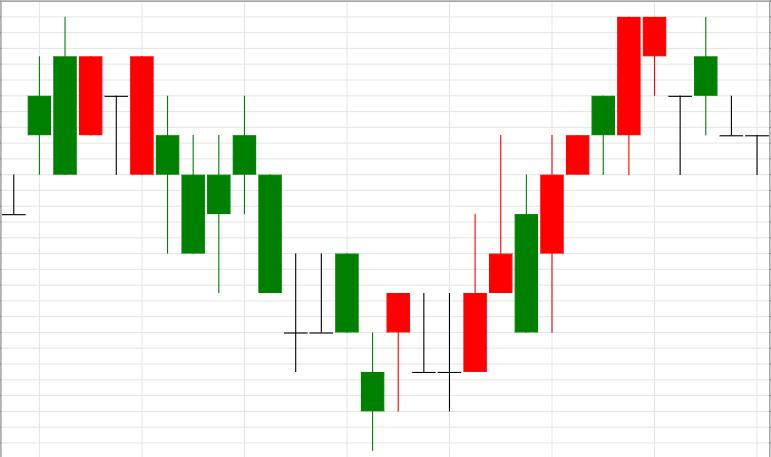shooting_star_fall: (412, 134, 512, 411)
